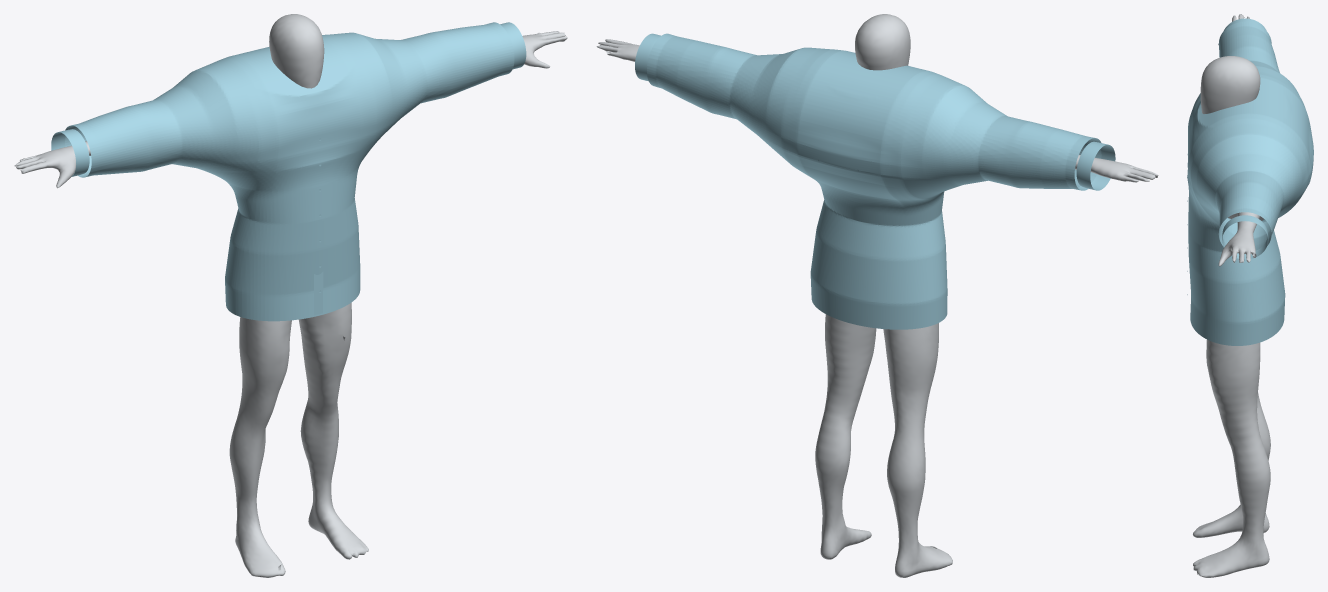
Rendered from fit.glb.
3 views of the same model, side by side, from view 1: azimuth 30°, elevation 25°; view 2: azimuth 150°, elevation 25°; view 3: azimuth 270°, elevation 25° (orthographic). The views are drawn at different scales.
Parts seen in each view (by area): view 1: ATEL-23 Shirt v2.2, AtelierX_mannequin_180cm; view 2: ATEL-23 Shirt v2.2, AtelierX_mannequin_180cm; view 3: ATEL-23 Shirt v2.2, AtelierX_mannequin_180cm.
Boxes of the visible parts, x1,y1,x2,y2 form: ATEL-23 Shirt v2.2: (51, 22, 526, 321); AtelierX_mannequin_180cm: (14, 14, 567, 577); ATEL-23 Shirt v2.2: (635, 33, 1115, 329); AtelierX_mannequin_180cm: (596, 14, 1158, 577); ATEL-23 Shirt v2.2: (1187, 18, 1313, 345); AtelierX_mannequin_180cm: (1193, 14, 1270, 577).
Bounding box in the file's own units: 1.93 × 1.8 × 0.4178.
